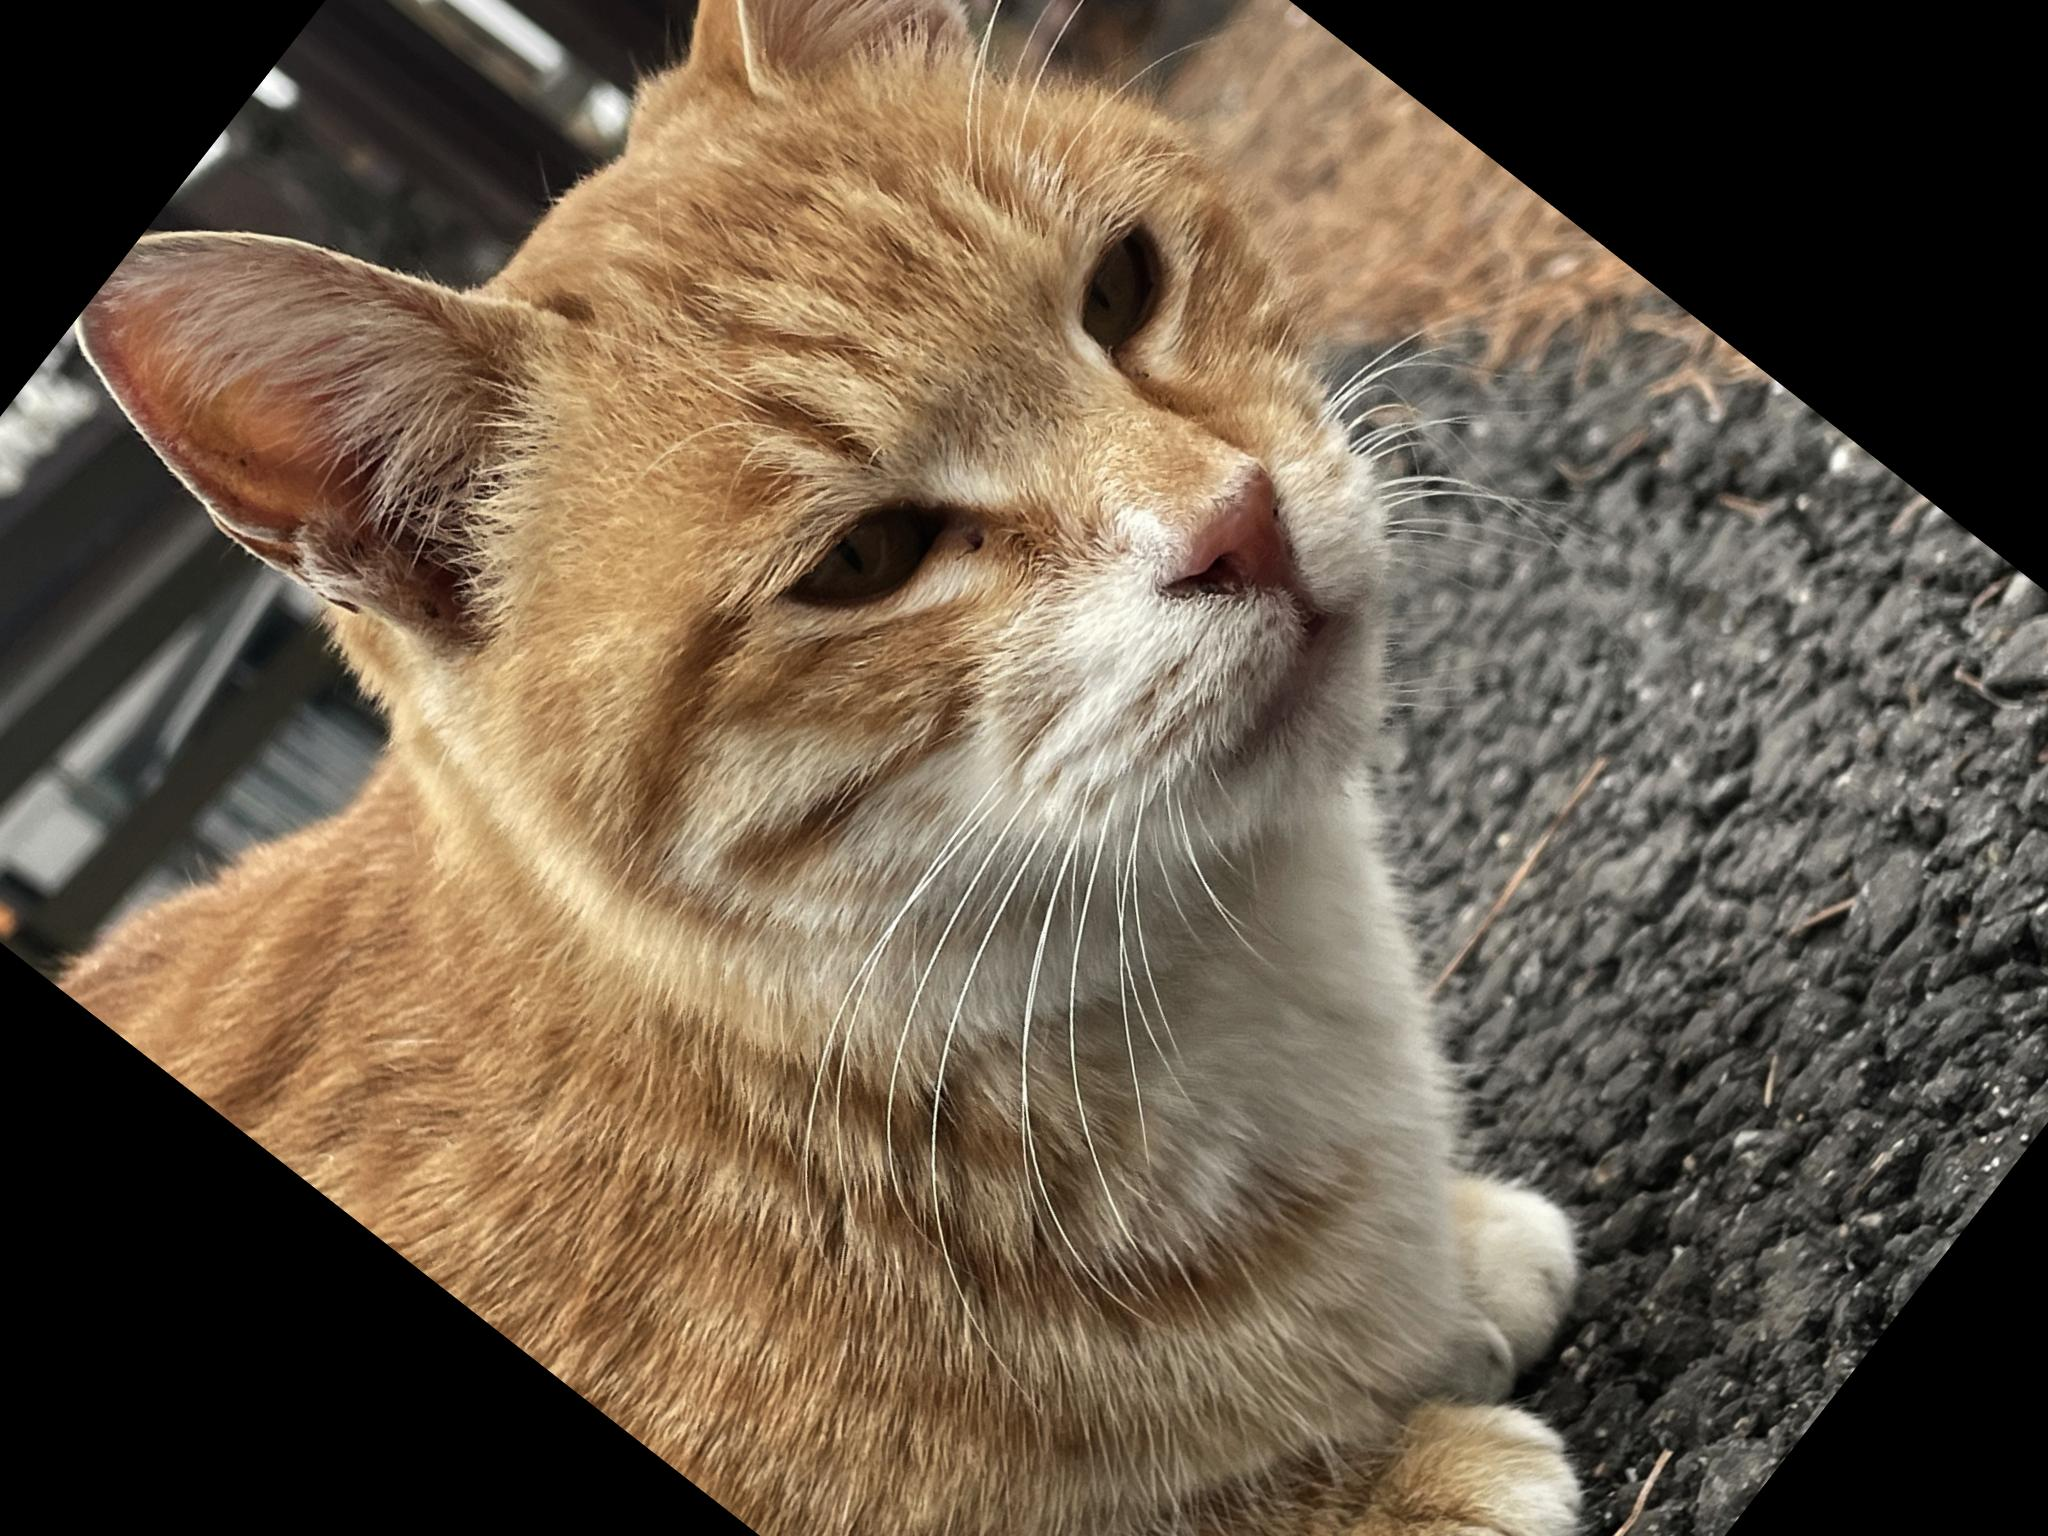cat: (0, 0, 1896, 1536)
